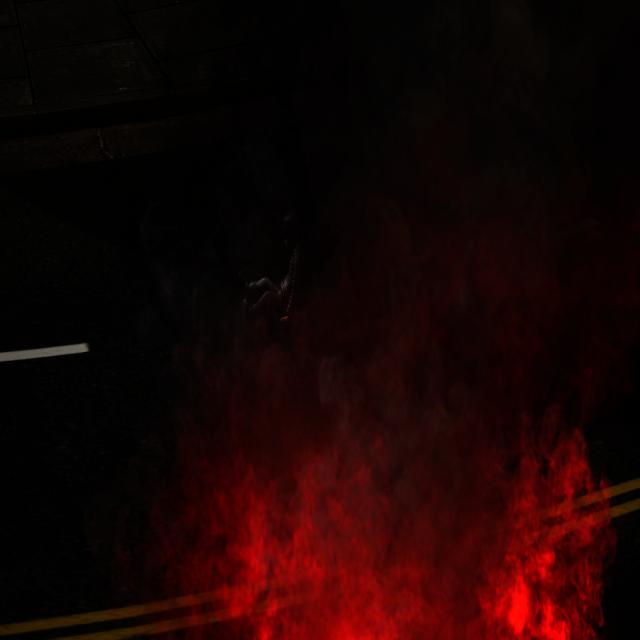Human: (231, 199, 309, 343)
